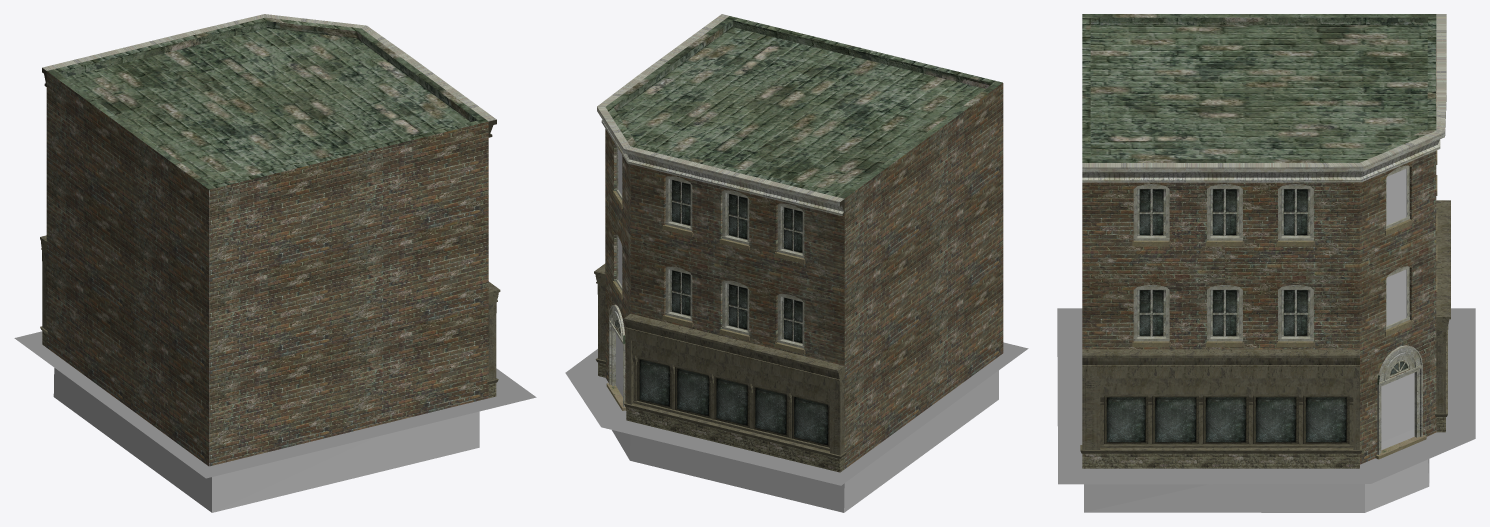
The model's file is BuildingCorner01.FBX.
3 views of the same model, side by side, from view 1: azimuth 30°, elevation 25°; view 2: azimuth 150°, elevation 25°; view 3: azimuth 270°, elevation 25° (orthographic). The views are drawn at different scales.
Parts seen in each view (by area): view 1: BldgCorner01:6, BldgCorner01_LOD:0, BldgCorner01:75, BldgCorner01:7, BldgCorner01:8; view 2: BldgCorner01:6, BldgCorner01:7, BldgCorner01:8, BldgCorner01_LOD:0, BldgCorner01:75; view 3: BldgCorner01:6, BldgCorner01:7, BldgCorner01:8, BldgCorner01:75, BldgCorner01_LOD:0.
Boxes of the visible parts, x1,y1,x2,y2 form: BldgCorner01:6: [42, 17, 496, 466]; BldgCorner01_LOD:0: [53, 190, 479, 512]; BldgCorner01:75: [14, 331, 536, 478]; BldgCorner01:7: [42, 14, 496, 134]; BldgCorner01:8: [40, 68, 500, 384]; BldgCorner01:6: [598, 16, 1003, 472]; BldgCorner01:7: [597, 14, 844, 447]; BldgCorner01:8: [594, 199, 846, 458]; BldgCorner01_LOD:0: [612, 149, 998, 512]; BldgCorner01:75: [565, 342, 1028, 485]; BldgCorner01:6: [1082, 14, 1445, 468]; BldgCorner01:7: [1082, 14, 1446, 459]; BldgCorner01:8: [1080, 200, 1450, 453]; BldgCorner01:75: [1057, 308, 1475, 484]; BldgCorner01_LOD:0: [1084, 168, 1429, 512].
Bounding box in the file's own units: 991 × 928 × 994.
